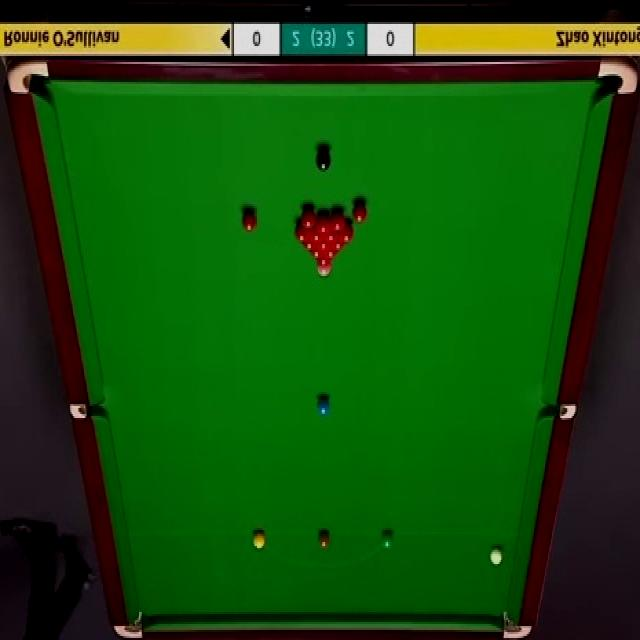black-ball: (314, 149, 330, 173)
blue-ball: (316, 398, 331, 415)
brown-ball: (317, 531, 331, 549)
green-ball: (380, 530, 395, 552)
pink-ball: (317, 262, 332, 276)
red-ball: (298, 207, 316, 230), (330, 208, 346, 232), (316, 213, 331, 235), (337, 222, 352, 244), (241, 210, 256, 230), (295, 221, 308, 243), (353, 202, 367, 222), (325, 221, 338, 242), (304, 239, 315, 251), (318, 238, 329, 250), (318, 253, 328, 265)
white-ball: (490, 546, 504, 566)
yellow-ball: (253, 530, 265, 550)
